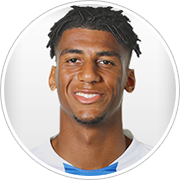smile: (70, 87, 105, 104)
